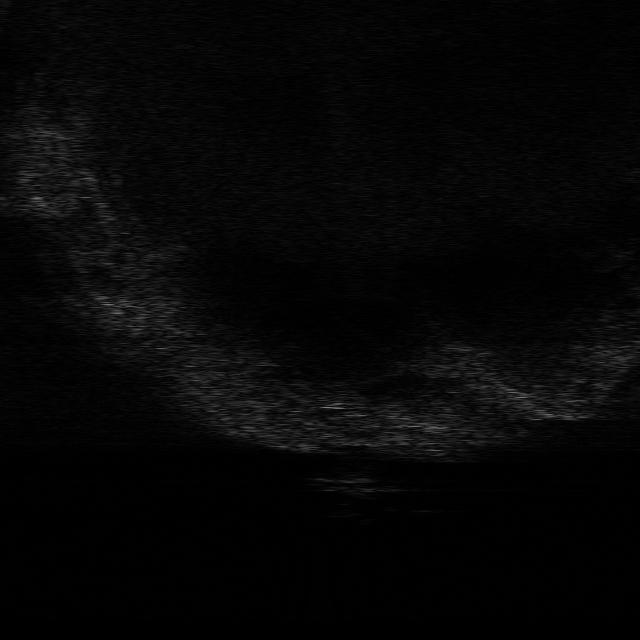plane: (312, 474, 408, 502)
